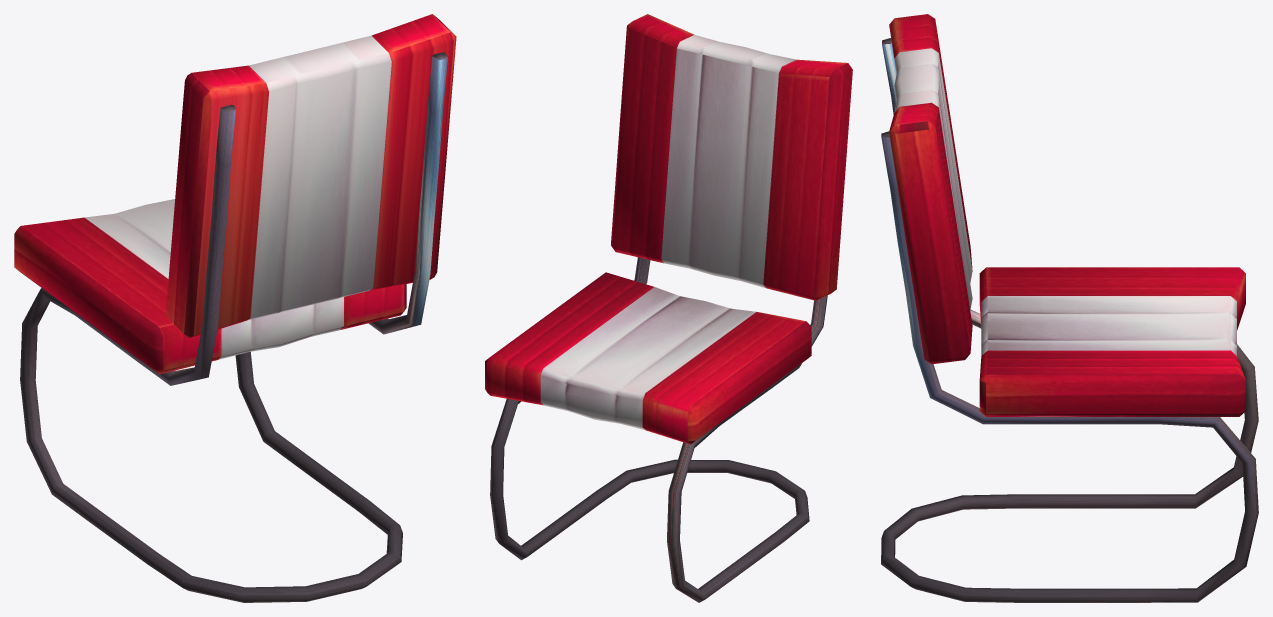
The model's file is diner_chair.fbx.
The picture shows the model from 3 angles, left to right: view 1: azimuth 30°, elevation 25°; view 2: azimuth 150°, elevation 25°; view 3: azimuth 270°, elevation 25°; orthographic projection. The views are drawn at different scales.
Parts seen in each view (by area): view 1: chair; view 2: chair; view 3: chair.
Part boxes in pixels (<box>): chair: <box>14,14,456,602</box>; chair: <box>485,14,852,602</box>; chair: <box>881,14,1258,602</box>.
Size of the model in its own units: 0.495 by 0.7024 by 1.
